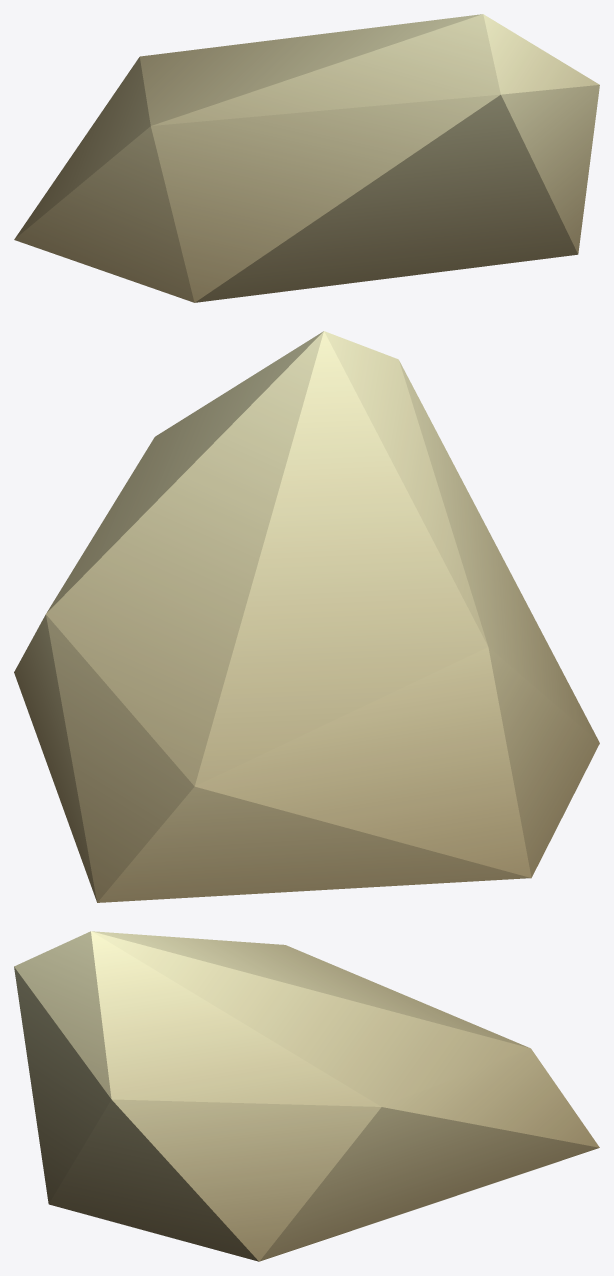
File: Rock_02.fbx
3 views of the same model, one above another, from view 1: azimuth 30°, elevation 25°; view 2: azimuth 150°, elevation 25°; view 3: azimuth 270°, elevation 25° (orthographic). The views are drawn at different scales.
Visible parts, largest first — view 1: Rock_02_Mesh; view 2: Rock_02_Mesh; view 3: Rock_02_Mesh.
Part boxes in pixels (x1=…): Rock_02_Mesh: x1=14, y1=14, x2=599, y2=302; Rock_02_Mesh: x1=14, y1=331, x2=599, y2=902; Rock_02_Mesh: x1=14, y1=931, x2=599, y2=1261.
Size of the model in its own units: 322 by 163 by 343.
